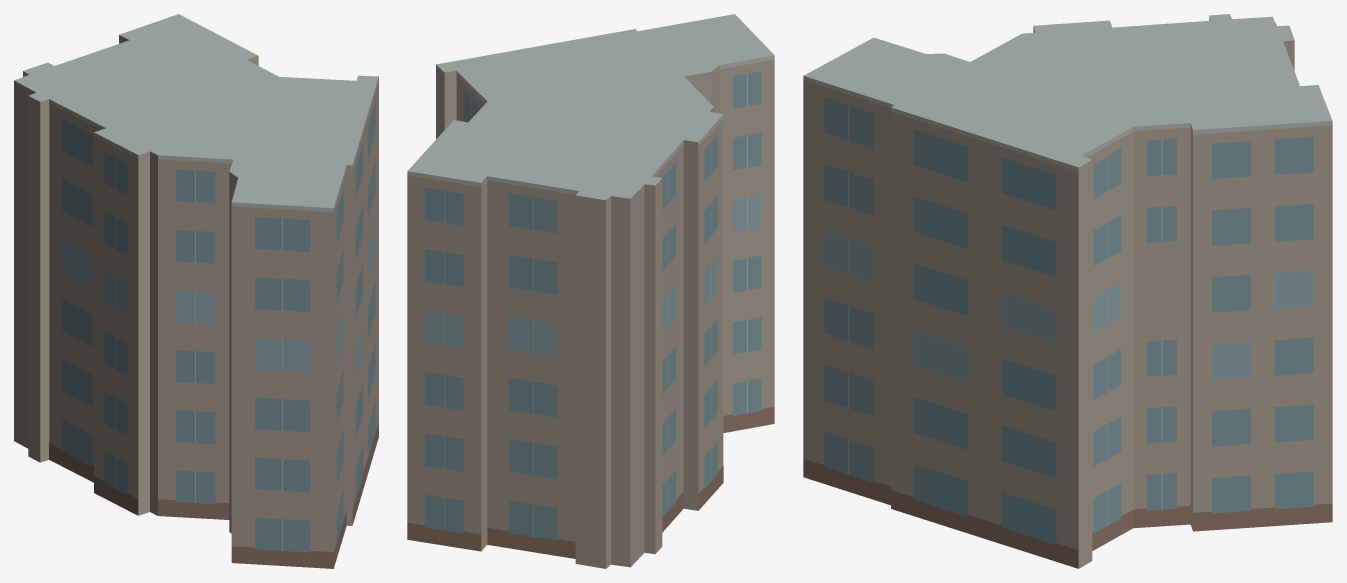
File: survey-upis-32922866.glb
3 renders of one model, left to right at view 1: azimuth 30°, elevation 25°; view 2: azimuth 150°, elevation 25°; view 3: azimuth 270°, elevation 25°, orthographic. The views are drawn at different scales.
Parts seen in each view (by area): view 1: survey-upis-32922866.tmp; view 2: survey-upis-32922866.tmp; view 3: survey-upis-32922866.tmp.
Boxes of the visible parts, x1,y1,x2,y2 form: survey-upis-32922866.tmp: (14, 14, 378, 568); survey-upis-32922866.tmp: (407, 14, 774, 568); survey-upis-32922866.tmp: (803, 14, 1332, 568).
Size of the model in its own units: 17.52 by 21.35 by 25.52.
